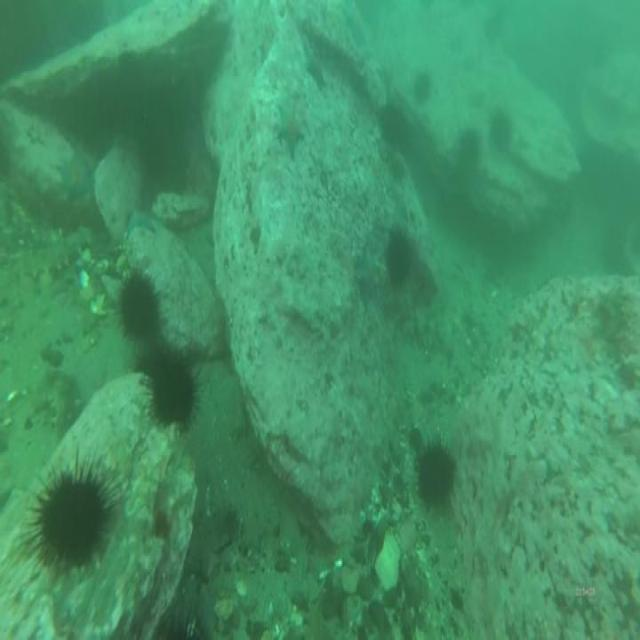echinus: (33, 476, 109, 554), (150, 359, 199, 420), (119, 281, 162, 337), (415, 442, 456, 500), (388, 227, 411, 283), (378, 104, 409, 139), (490, 110, 513, 152), (413, 71, 431, 108), (460, 128, 479, 160)
holothurian: (30, 371, 78, 438)
starfish: (62, 154, 94, 198), (358, 245, 380, 307), (277, 100, 303, 150), (127, 205, 153, 231)
